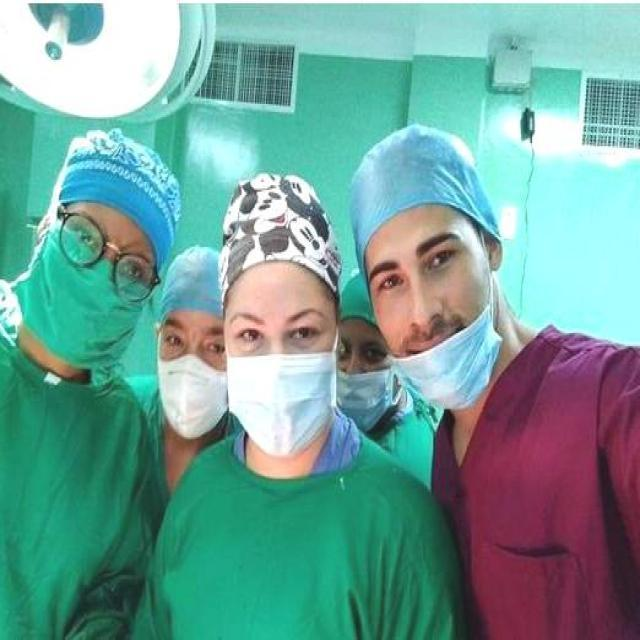hairnet: (352, 125, 502, 416), (336, 266, 401, 440)
